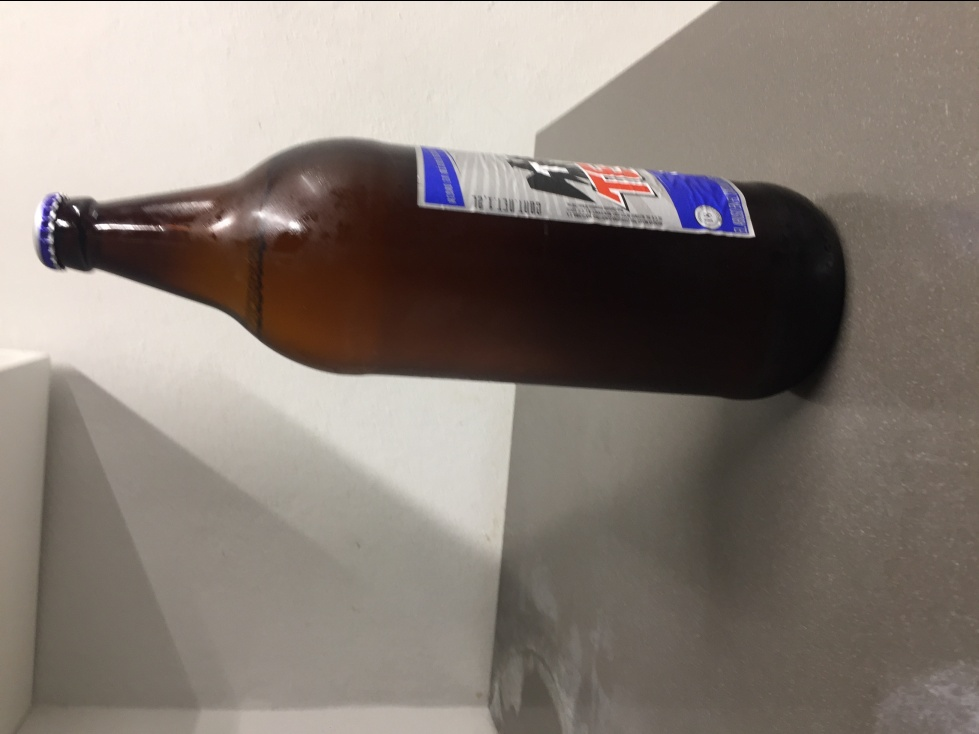tecateC: (36, 135, 843, 408), (36, 135, 844, 404)
